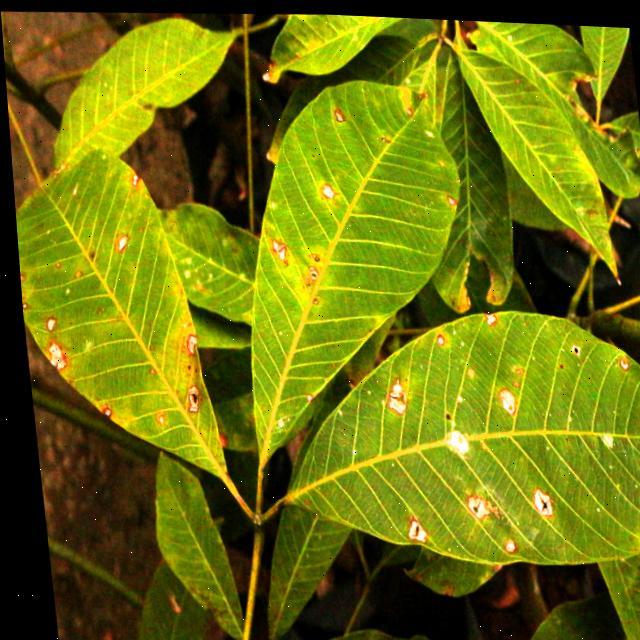Colletotrichum: (431, 330, 440, 341)
